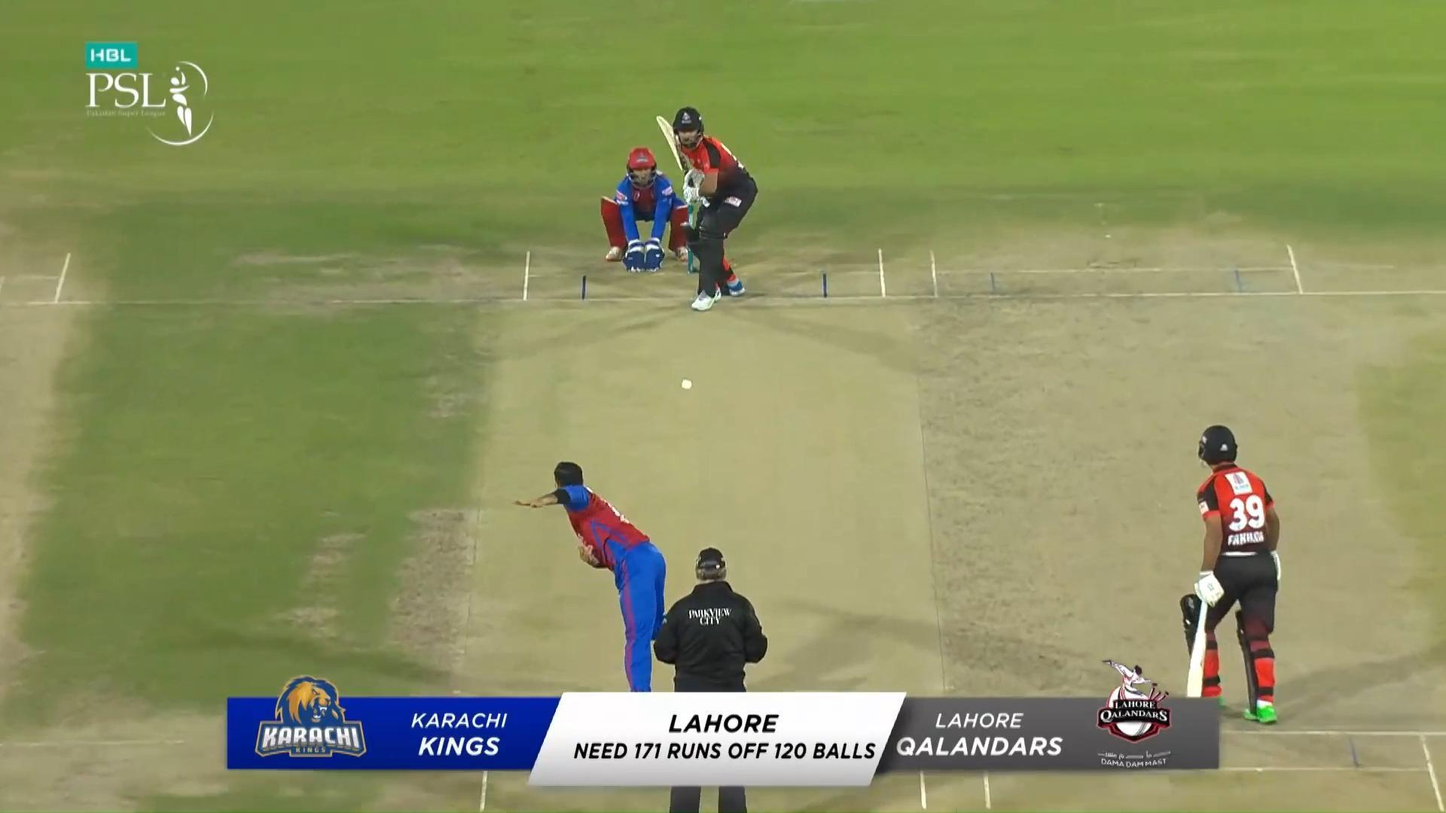BM 1: (654, 107, 759, 312)
BO: (514, 457, 670, 694)
